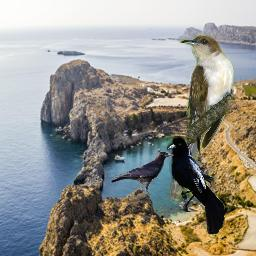Crow: (167, 136, 225, 234), (110, 151, 174, 197)
Cuckoo: (169, 35, 236, 201)
